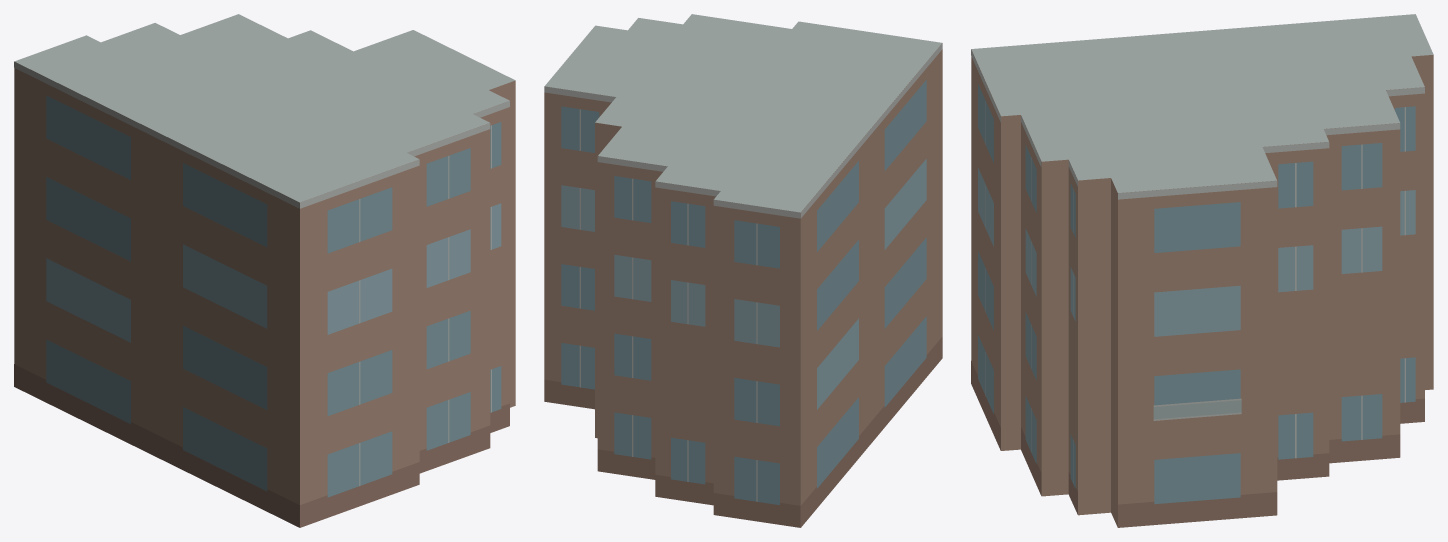
The model's file is survey-upis-32781256.glb.
The picture shows the model from 3 angles, left to right: view 1: azimuth 30°, elevation 25°; view 2: azimuth 150°, elevation 25°; view 3: azimuth 270°, elevation 25°; orthographic projection. The views are drawn at different scales.
Parts seen in each view (by area): view 1: survey-upis-32781256.tmp; view 2: survey-upis-32781256.tmp; view 3: survey-upis-32781256.tmp.
Part boxes in pixels (left/top/right/bottom): survey-upis-32781256.tmp: left=14, top=14, right=515, bottom=527; survey-upis-32781256.tmp: left=544, top=14, right=942, bottom=527; survey-upis-32781256.tmp: left=971, top=14, right=1433, bottom=527.
Bounding box in the file's own units: 14.47 × 12.6 × 15.79.
